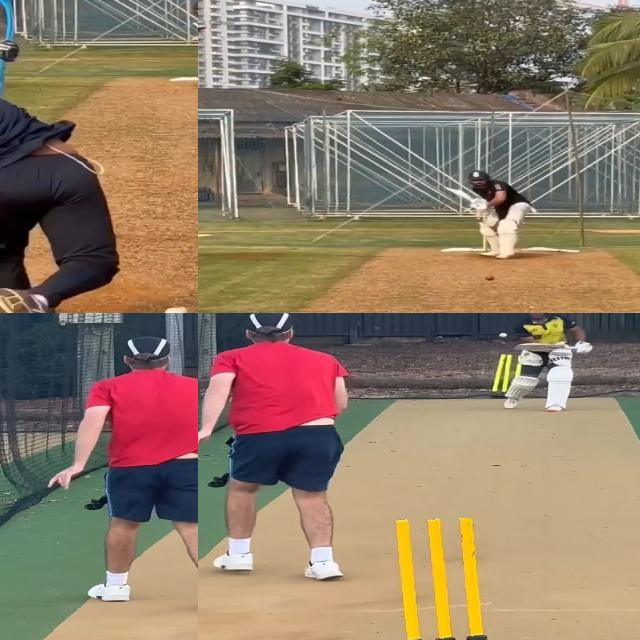Cricket ball: (498, 331, 508, 339), (485, 275, 494, 281)
Stumps: (381, 517, 492, 640), (487, 354, 522, 400)
